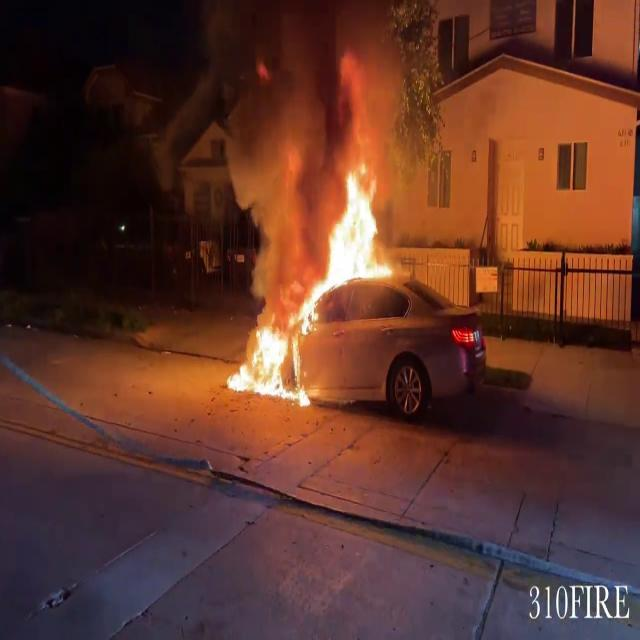Fire: (227, 157, 406, 403), (222, 304, 320, 402)
Smoke: (228, 2, 426, 200)
